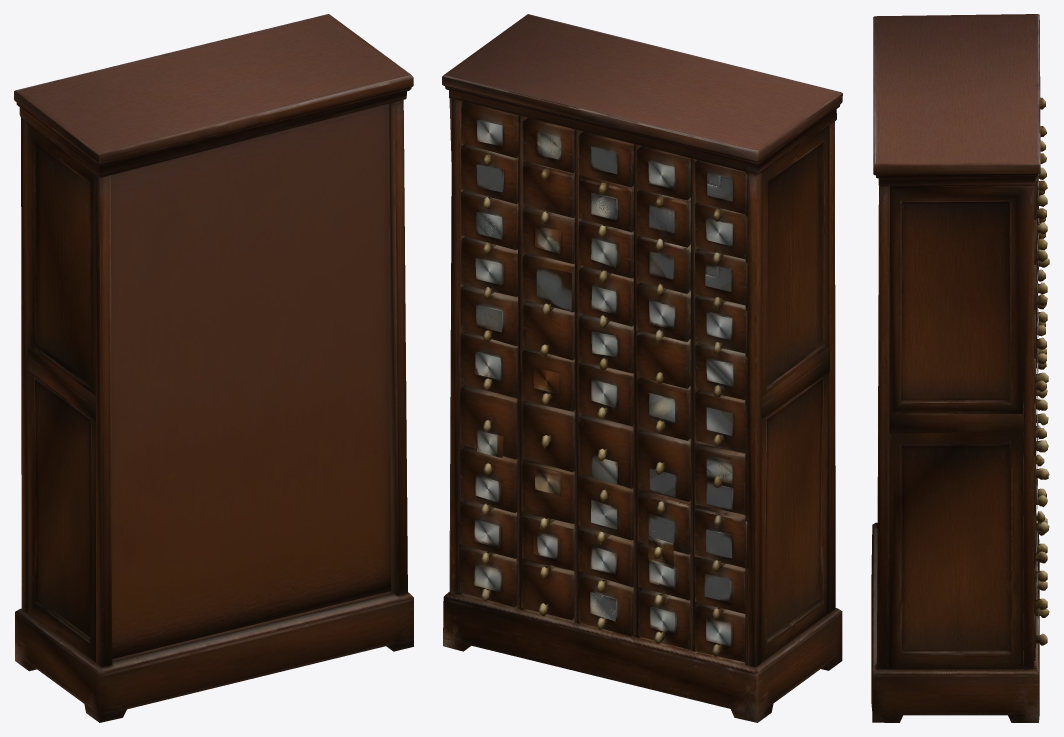
The model's file is furniture-multi-drawer-file-cabinet.glb.
3 views of the same model, side by side, from view 1: azimuth 30°, elevation 25°; view 2: azimuth 150°, elevation 25°; view 3: azimuth 270°, elevation 25° (orthographic). The views are drawn at different scales.
Parts seen in each view (by area): view 1: tripo_node_92e1fb6b-b6b1-4789-9920-8fc09597d9d2; view 2: tripo_node_92e1fb6b-b6b1-4789-9920-8fc09597d9d2; view 3: tripo_node_92e1fb6b-b6b1-4789-9920-8fc09597d9d2.
Part boxes in pixels (x1,y1,x2,y2): tripo_node_92e1fb6b-b6b1-4789-9920-8fc09597d9d2: (14, 14, 413, 722); tripo_node_92e1fb6b-b6b1-4789-9920-8fc09597d9d2: (442, 14, 842, 722); tripo_node_92e1fb6b-b6b1-4789-9920-8fc09597d9d2: (871, 14, 1049, 722).
Size of the model in its own units: 1.3 by 2.25 by 0.65.
1 material, 1 textured.
